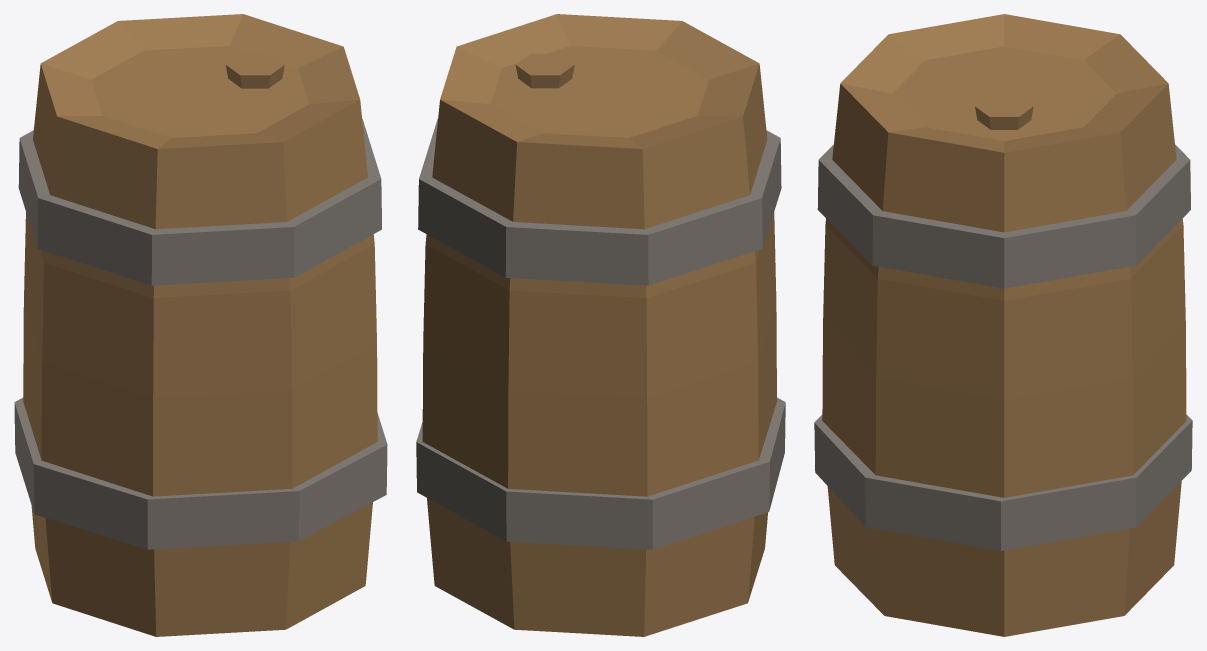
File: barrel01.fbx
3 renders of one model, left to right at view 1: azimuth 30°, elevation 25°; view 2: azimuth 150°, elevation 25°; view 3: azimuth 270°, elevation 25°, orthographic.
Visible parts, largest first — view 1: barrel_01; view 2: barrel_01; view 3: barrel_01.
Boxes of the visible parts, <box> form: barrel_01: <box>14,14,387,636</box>; barrel_01: <box>416,14,785,636</box>; barrel_01: <box>814,14,1192,636</box>.
Bounding box in the file's own units: 0.901 × 0.8894 × 1.26.
